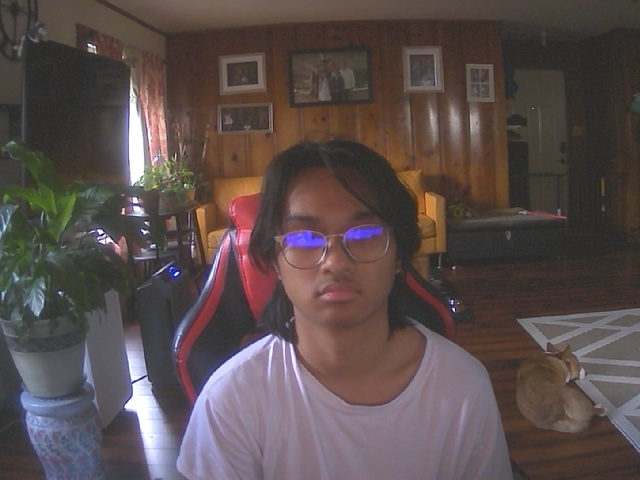neutral: (265, 141, 412, 331)
